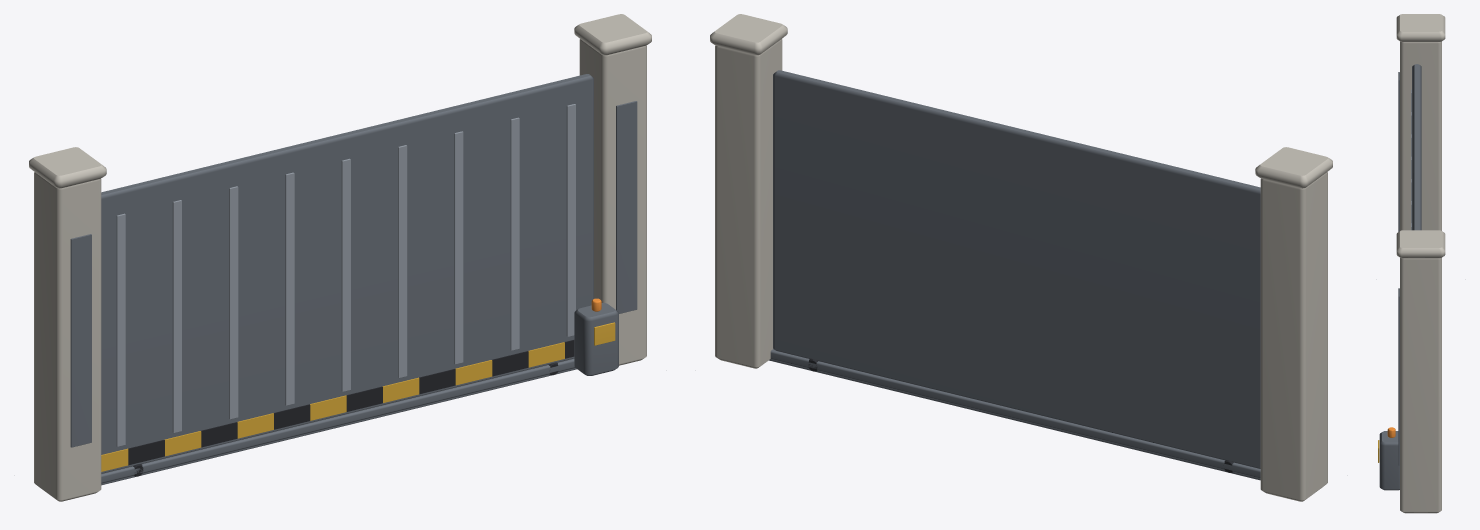
File: portail_beton_arme.glb
3 renders of one model, left to right at view 1: azimuth 30°, elevation 25°; view 2: azimuth 150°, elevation 25°; view 3: azimuth 270°, elevation 25°, orthographic. The views are drawn at different scales.
Visible parts, largest first — view 1: vantail_acier_cl.002, pieces_beton_cl_clair.004, vantail_acier_cl_clair.002, pieces_acier_cl.002, vantail_jaune_cl.002, vantail_noir_cl.002; view 2: vantail_acier_cl.002, pieces_beton_cl_clair.004, pieces_acier_cl.002; view 3: pieces_beton_cl_clair.004, pieces_acier_cl.002, vantail_acier_cl.002, vantail_acier_cl_clair.002.
Part boxes in pixels (left/top/right/bottom): vantail_acier_cl.002: left=101, top=74, right=593, bottom=483; pieces_beton_cl_clair.004: left=29, top=14, right=651, bottom=501; vantail_acier_cl_clair.002: left=116, top=104, right=575, bottom=446; pieces_acier_cl.002: left=70, top=101, right=637, bottom=485; vantail_jaune_cl.002: left=101, top=342, right=564, bottom=471; vantail_noir_cl.002: left=128, top=340, right=574, bottom=476; vantail_acier_cl.002: left=770, top=70, right=1260, bottom=478; pieces_beton_cl_clair.004: left=710, top=14, right=1332, bottom=501; pieces_acier_cl.002: left=769, top=359, right=1260, bottom=480; pieces_beton_cl_clair.004: left=1396, top=14, right=1445, bottom=513; pieces_acier_cl.002: left=1379, top=72, right=1399, bottom=490; vantail_acier_cl.002: left=1412, top=64, right=1421, bottom=230; vantail_acier_cl_clair.002: left=1411, top=89, right=1411, bottom=230.
Bounding box in the file's own units: 3.45 × 1.81 × 0.55.
